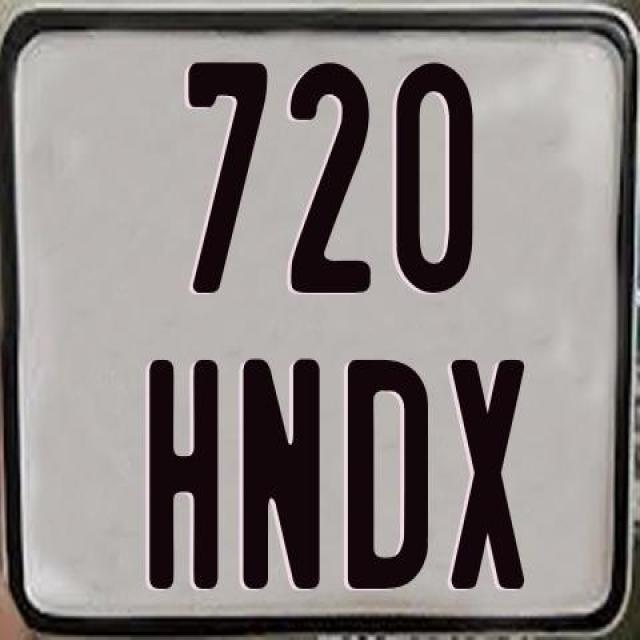0: (395, 60, 473, 298)
2: (290, 59, 376, 290)
7: (186, 59, 274, 291)
D: (347, 360, 432, 597)
H: (145, 358, 215, 597)
N: (238, 357, 318, 596)
X: (450, 358, 526, 592)
